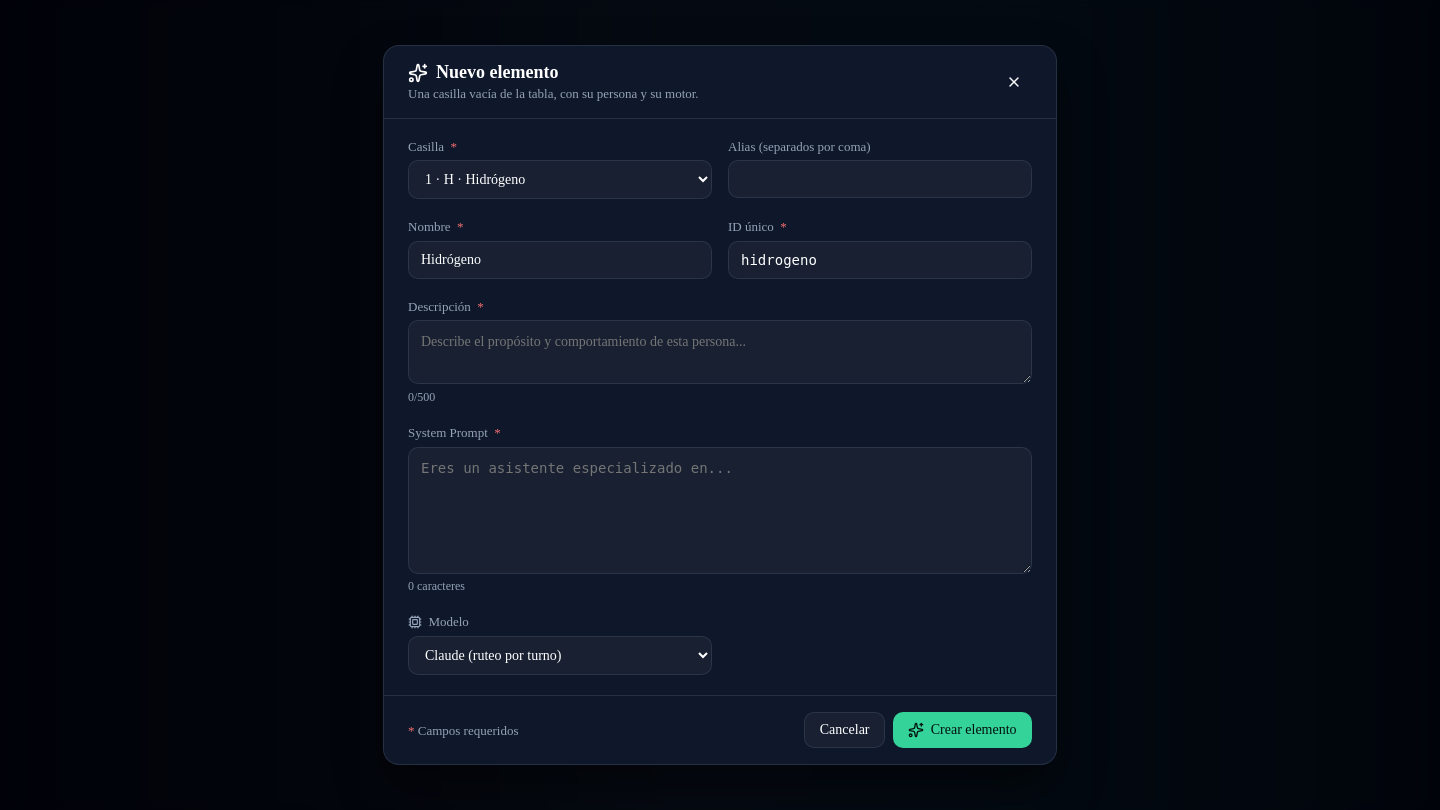
Test: Og118ElementAdmin create › names the new element after the slot the author picks
The image size is (1440, 810).
Expected: the field labelled "Nombre *" holds "Hidrógeno", [408,241,712,279]
Select "117 · Ts · Teneso" in the dropdown labelled "Casilla *" at (560, 180), box [408,160,712,199]
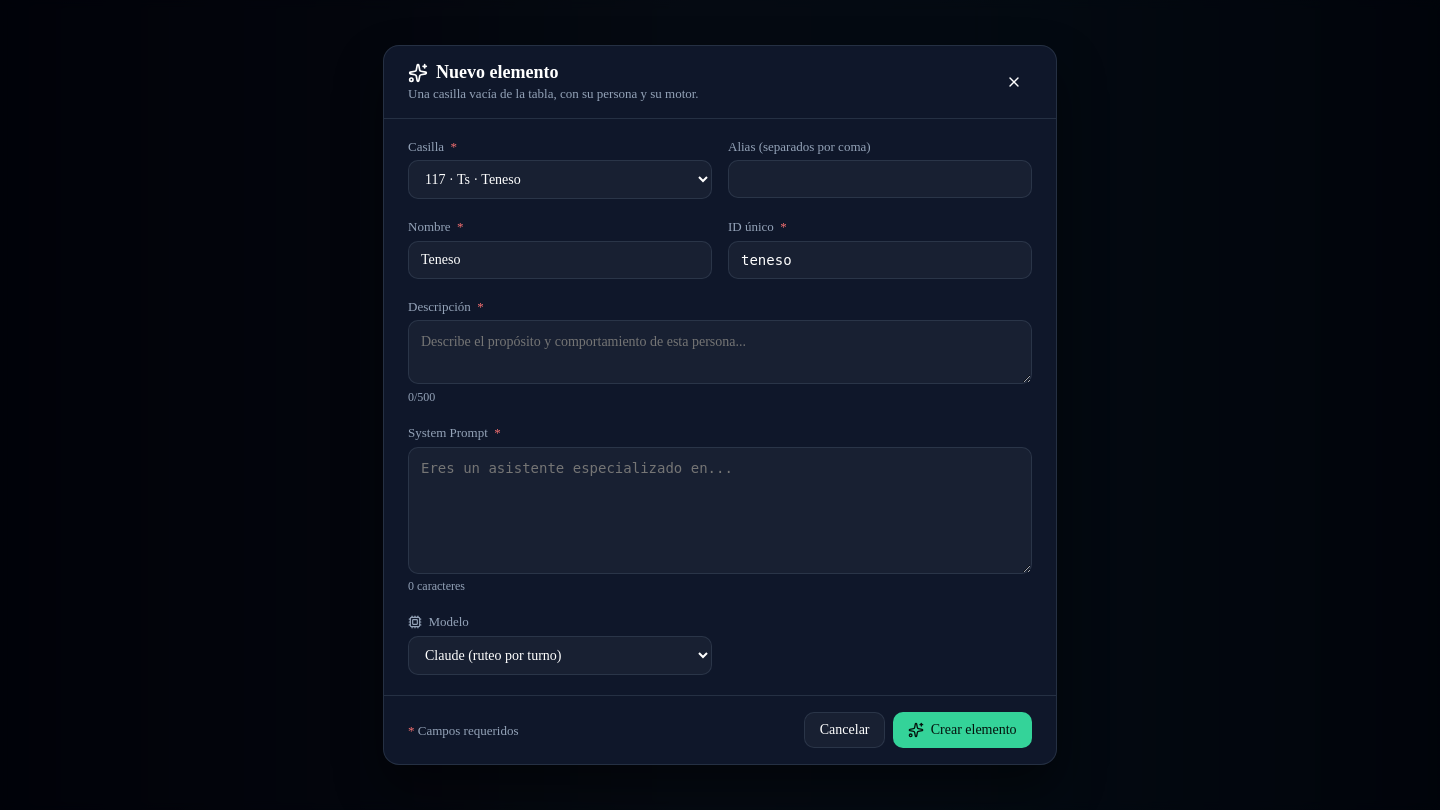
Expected: the field labelled "Nombre *" holds "Teneso", [408,241,712,279]
Expected: the field labelled "ID único *" holds "teneso", [728,241,1032,279]
Expected: the dropdown labelled "Casilla *" shows "117 · Ts · Teneso", [408,160,712,199]
